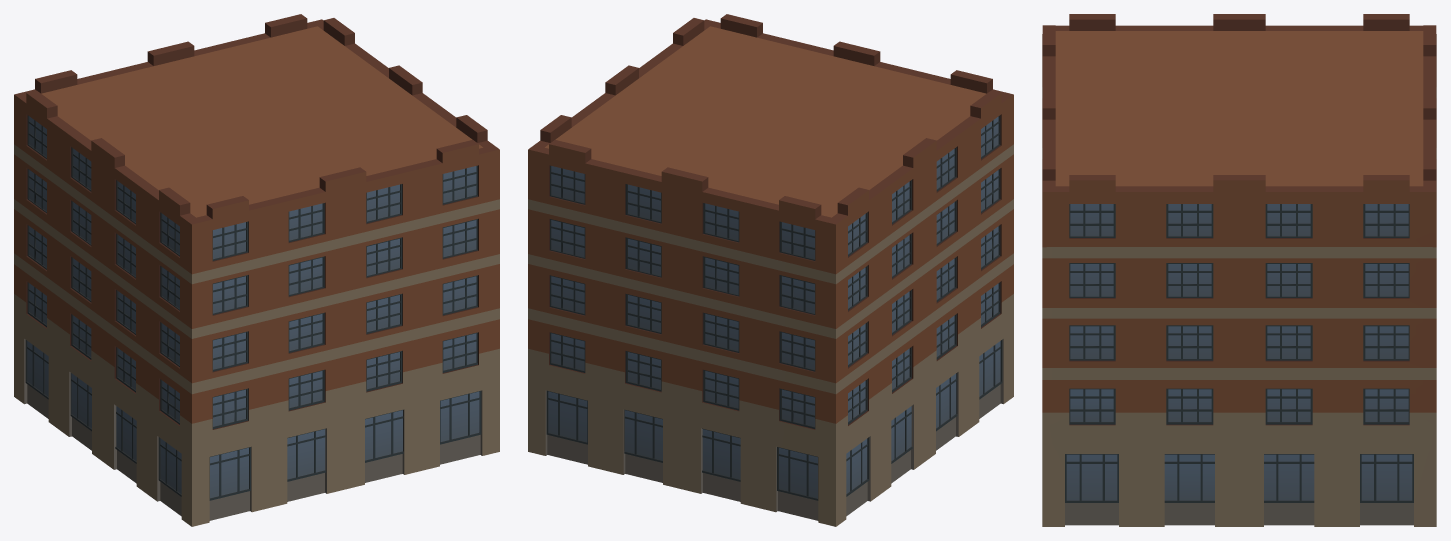
The picture shows the model from 3 angles, left to right: view 1: azimuth 30°, elevation 25°; view 2: azimuth 150°, elevation 25°; view 3: azimuth 270°, elevation 25°; orthographic projection. The views are drawn at different scales.
Parts seen in each view (by area): view 1: windowRefl.079; view 2: windowRefl.079; view 3: windowRefl.079.
Part boxes in pixels (x1,y1,x2,y2): windowRefl.079: (14, 14, 499, 526); windowRefl.079: (528, 14, 1013, 526); windowRefl.079: (1042, 14, 1436, 526).
Size of the model in its own units: 0.5 by 0.4851 by 0.5.
